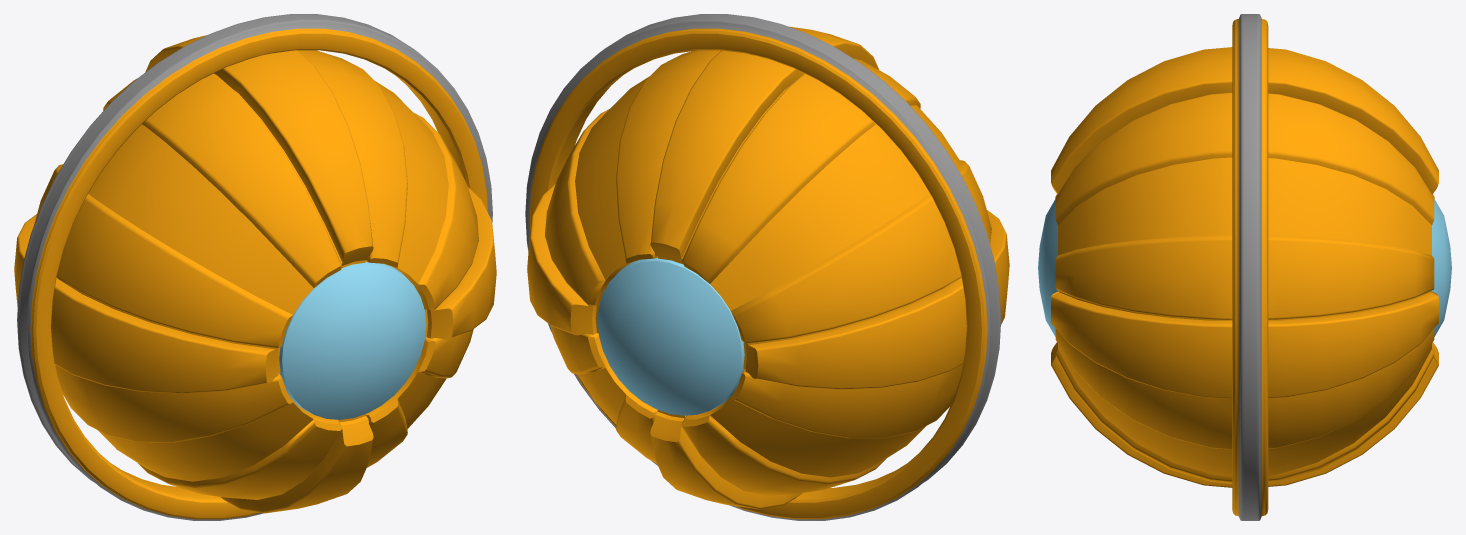
Rendered from Magnetika_Pivot.FBX.
3 views of the same model, side by side, from view 1: azimuth 30°, elevation 25°; view 2: azimuth 150°, elevation 25°; view 3: azimuth 270°, elevation 25° (orthographic). The views are drawn at different scales.
Visible parts, largest first — view 1: Sphere001; view 2: Sphere001; view 3: Sphere001.
Part boxes in pixels (x1,y1,x2,y2): Sphere001: [14, 14, 496, 520]; Sphere001: [525, 14, 1009, 520]; Sphere001: [1038, 14, 1451, 520].
Size of the model in its own units: 127 by 127 by 104.
